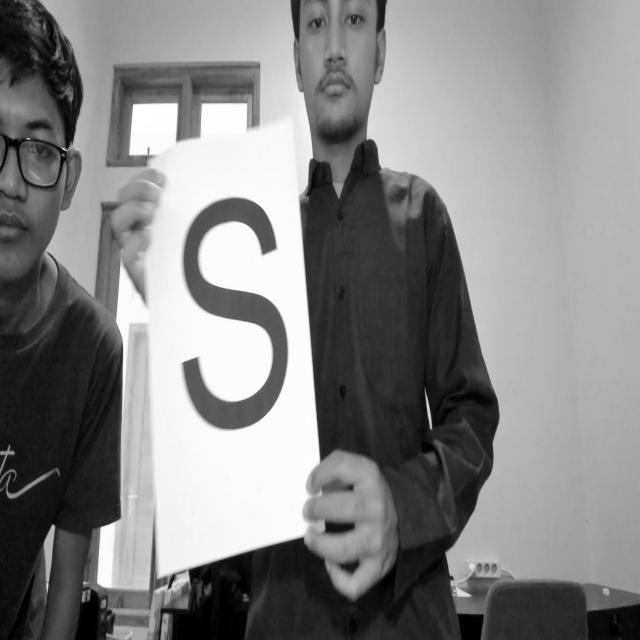s: (168, 181, 305, 468)
